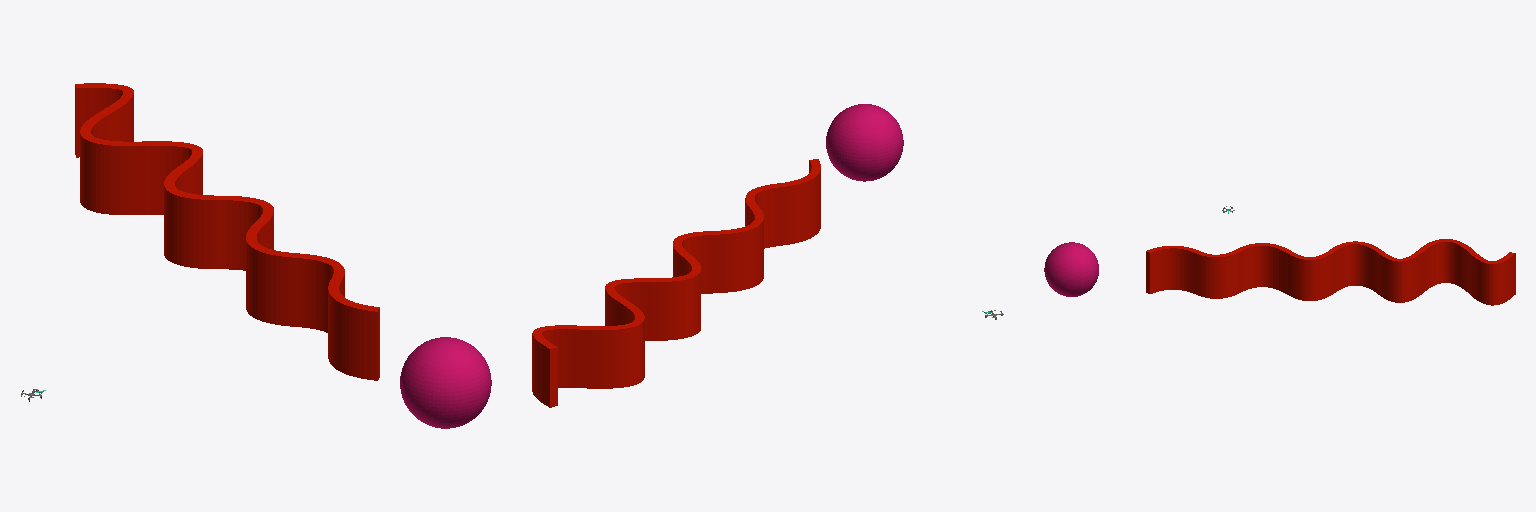
URDF robot description (manipulator):
<?xml version="1.0" ?>
<robot name="manipulator">
  <!-- Link Definitions -->
  <link name="world"/>

  <joint name="world_to_drone" type="fixed">
    <parent link="world"/>
    <child link="link_drone"/>
    <origin xyz="0 0 0" rpy="0 0 0"/> <!-- World 좌표계와 동일 -->
  </joint>
  
<link name="link_drone">
  <inertial>
    <origin xyz="0 0 0" rpy="0 0 0"/> <!-- Center of mass adjustment -->
    <mass value="1"/>
    <inertia ixx="0.032" ixy="0" ixz="0" iyy="0.032" iyz="0" izz="0.00012"/>
  </inertial>
  <visual>
    <origin xyz="0 0 0" rpy="0 0 0"/> <!-- Center of mass adjustment -->  
    <geometry>
        <mesh filename="package://ros_gz_example_description/models/manipulator/meshes/crazyflie.dae" scale="0.001 0.001 0.001"/>
    </geometry>
  </visual>
</link>

<!-- 엔드이펙터 -->
  <link name="link_ee">
    <inertial>
      <origin xyz="0 0 0" rpy="0 0 0"/>
      <mass value="0.1"/>
      <inertia ixx="0.0001" ixy="0" ixz="0" iyy="0.0001" iyz="0" izz="0.0001"/>
    </inertial>
    <visual>
      <geometry>
        <mesh filename="package://ros_gz_example_description/models/manipulator/meshes/EE.dae" scale="0.001 0.001 0.001"/>
      </geometry>
    </visual>
  </link>

  <!-- 드론과 EE 연결 -->
  <joint name="drone_to_ee" type="fixed">
    <parent link="link_drone"/>
    <child link="link_ee"/>
    <origin xyz="0 0 0" rpy="0 0 0"/>
  </joint>


  <!-- 구체 추가 -->
  <link name="sphere_link">
    <visual>
      <origin xyz="0 0 0" rpy="0 0 0"/>
      <geometry>
        <mesh filename="package://ros_gz_example_description/models/manipulator/meshes/sphere.dae" scale="0.006 0.006 0.006"/>
      </geometry>
    </visual>
  </link>

  <!-- 구체를 월드에 고정-->
  <joint name="world_to_sphere" type="fixed">
    <parent link="world"/>
    <child link="sphere_link"/>
    <origin xyz="1.5 -1.2 0" rpy="0 0 0"/>
  </joint>
    
      <!-- 곡면 추가 -->
      <link name="curvature_link">
    <visual>
      <origin xyz="0 0 0" rpy="0 0 0"/>
      <geometry>
        <mesh filename="package://ros_gz_example_description/models/manipulator/meshes/curvature.dae" scale="0.005 0.005 0.005"/>
      </geometry>
    </visual>
  </link>

  <!-- 곡면을 월드에 고정-->
  <joint name="world_to_curvature" type="fixed">
    <parent link="world"/>
    <child link="curvature_link"/>
    <origin xyz="1.5 0.8 0" rpy="0 0 0"/>
  </joint>

</robot>

--- Render facts (derived) ---
3 views of the same robot in one strip: view 1: azimuth 30°, elevation 25°; view 2: azimuth 150°, elevation 25°; view 3: azimuth 270°, elevation 25° (orthographic).
Model manipulator with 5 links and 4 joints (4 fixed), rooted at world, posed all joints at 0.
Visible links, largest first — view 1: curvature_link, sphere_link; view 2: curvature_link, sphere_link; view 3: curvature_link, sphere_link.
Link boxes in pixels (x1,y1,x2,y2): curvature_link: (75,83,379,380); sphere_link: (400,337,491,428); curvature_link: (532,159,820,407); sphere_link: (826,104,903,181); curvature_link: (1146,239,1515,305); sphere_link: (1044,242,1098,296).
Size in the robot's own frame: 1.76 by 3.61 by 0.42 metres.
4 mesh visuals loaded from 4 distinct referenced files (4 Collada DAE).
